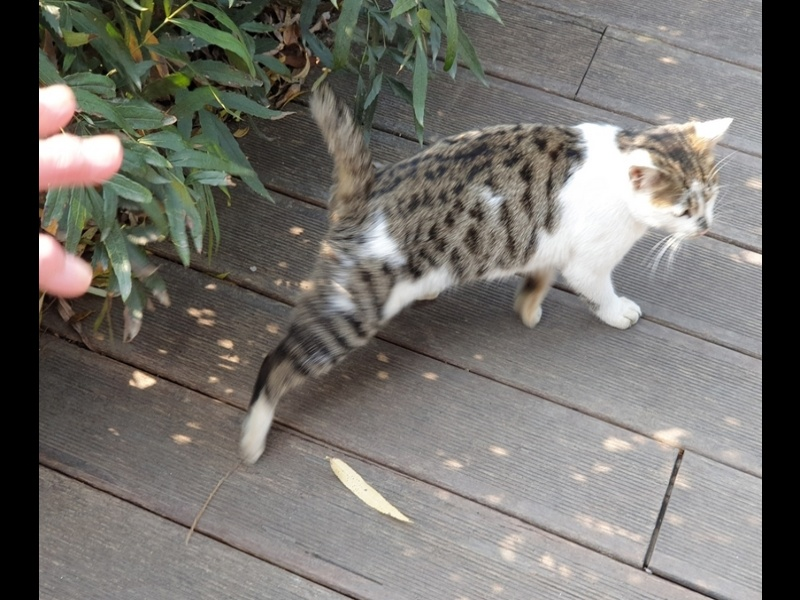cat: (237, 74, 739, 464)
